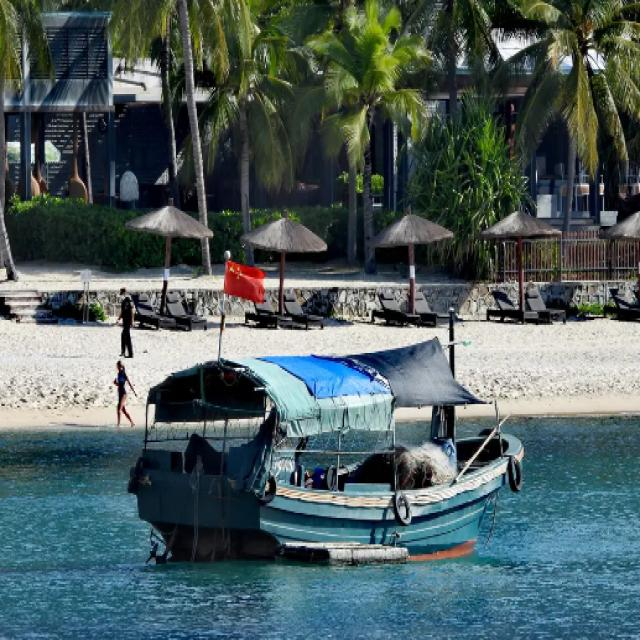fishing boat: (143, 313, 522, 567)
